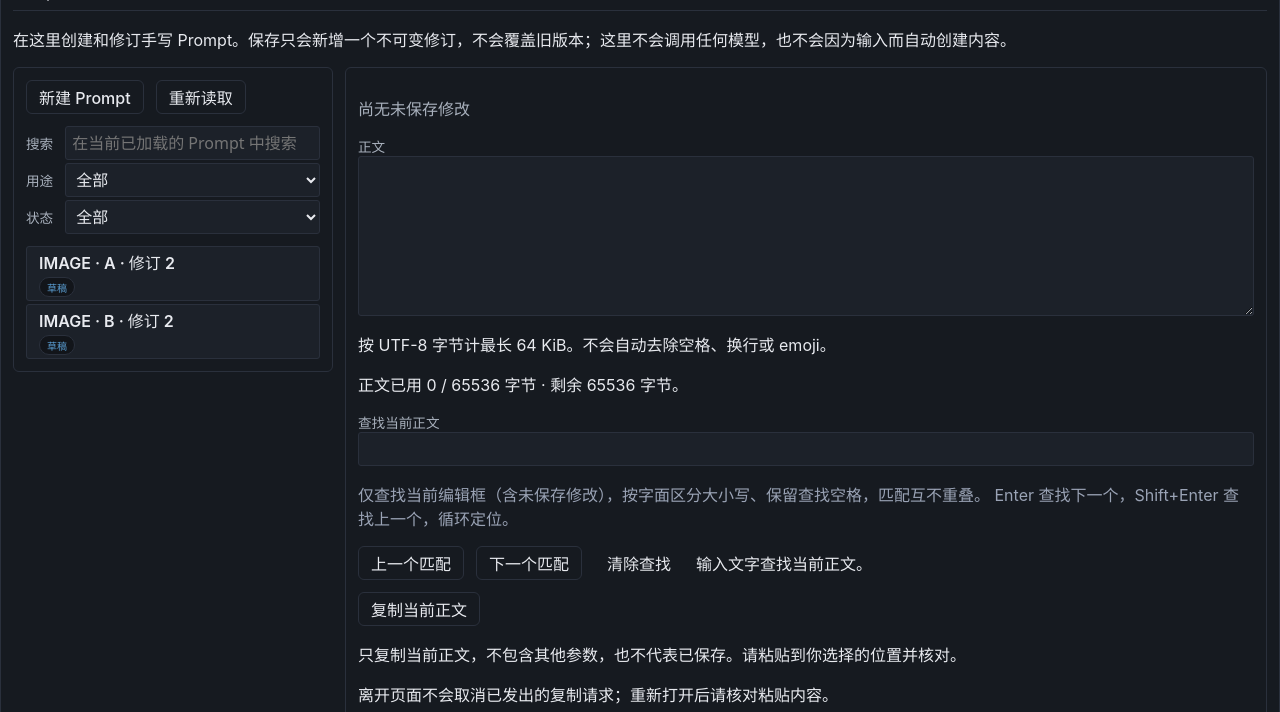
Test: mounted save receipts survive family navigation › reopens A with its actual unknown outcome and never changes B
Click the button "IMAGE · A · 修订 2 草稿": (173, 274) [26, 246, 320, 301]
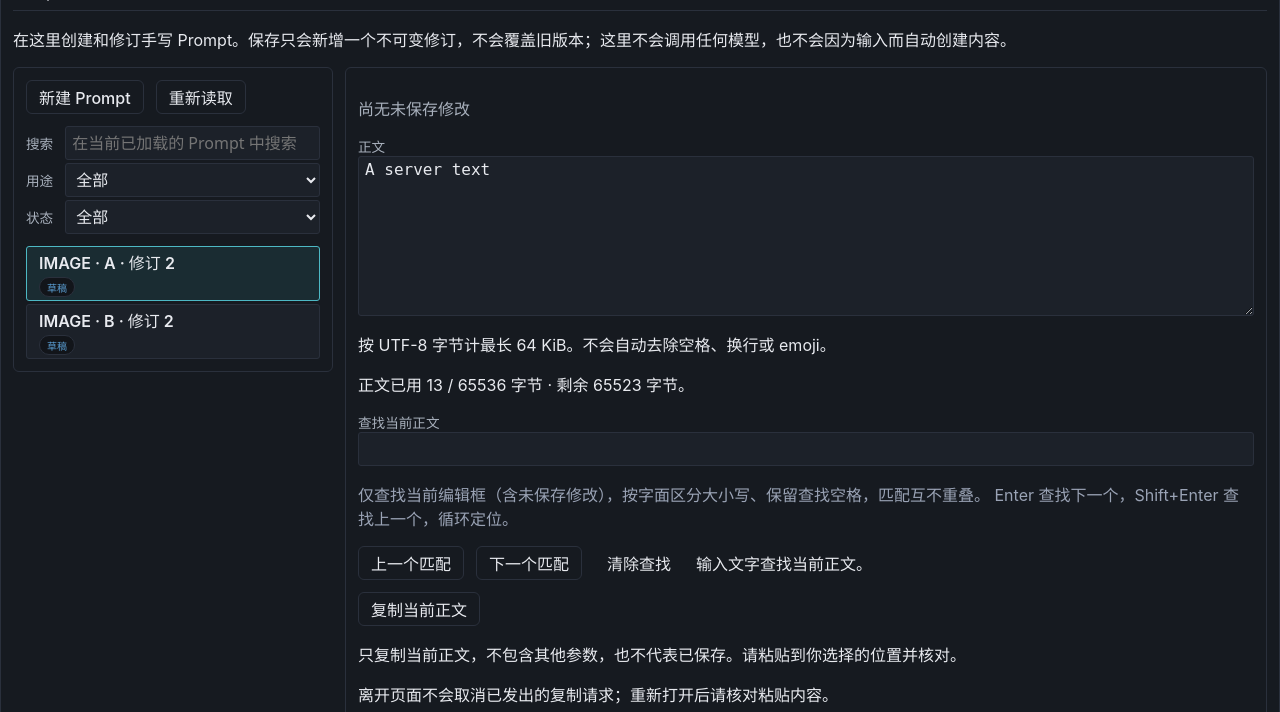
Now the text box labelled "正文" holds "A server text"
Replace the text in the text box labelled "正文" with "A frozen local text": (806, 236) [358, 156, 1254, 316]
(page scrolled)
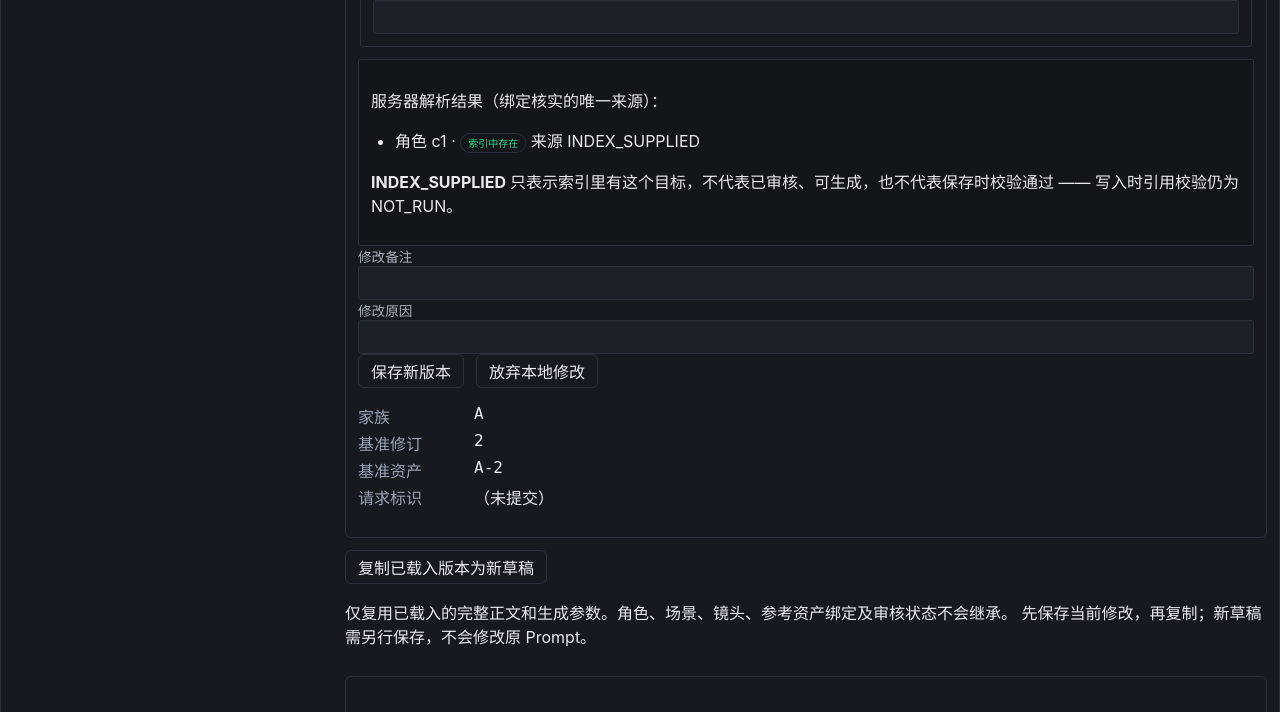
Click the button "保存新版本": (411, 370) [358, 354, 464, 388]
(page scrolled)
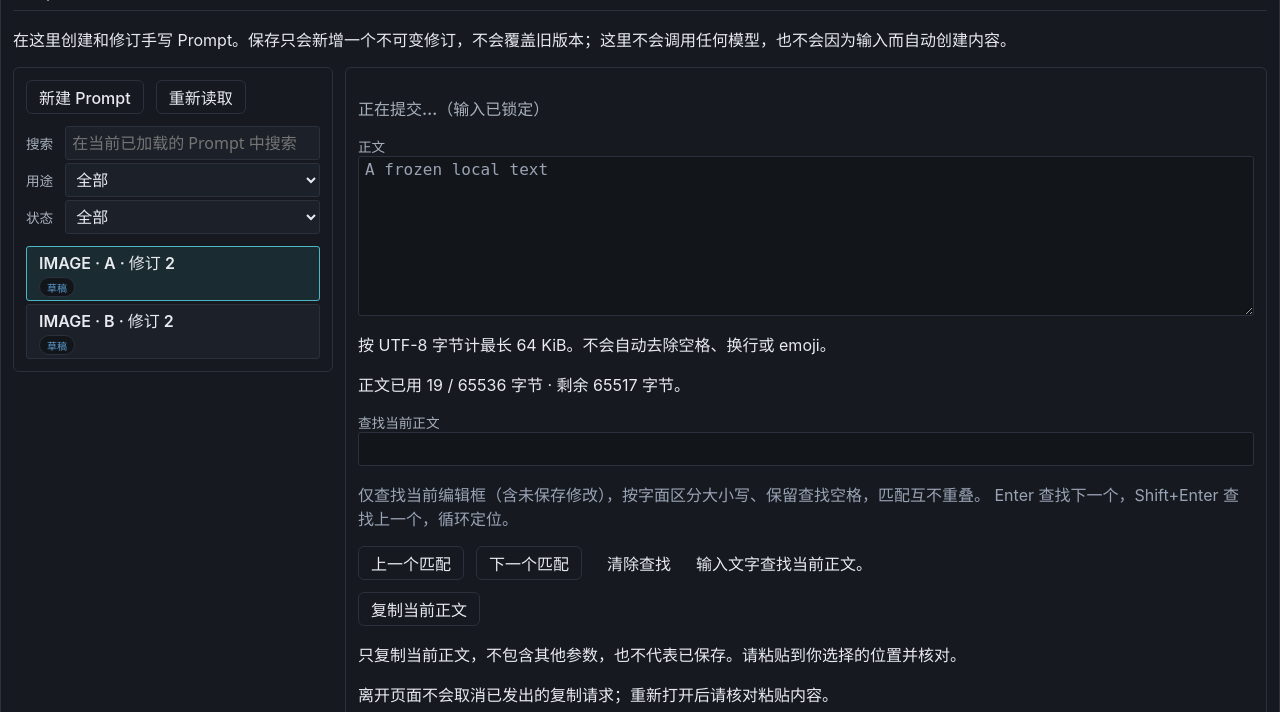
Click the button "IMAGE · B · 修订 2 草稿": (173, 332) [26, 304, 320, 359]
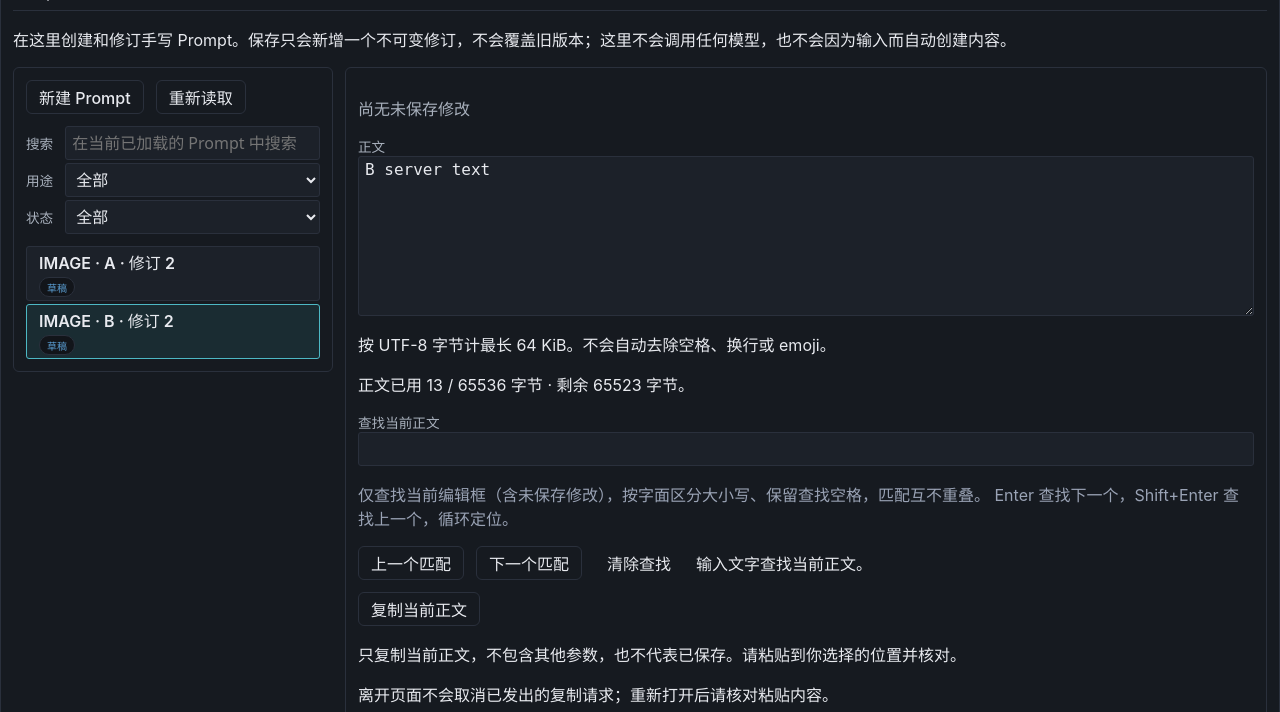
Expected: the text "已保存" is not shown
Now the text box labelled "正文" holds "B server text", box [358, 156, 1254, 316]
Click the button "IMAGE · A · 修订 2 草稿": (173, 274) [26, 246, 320, 301]
(page scrolled)
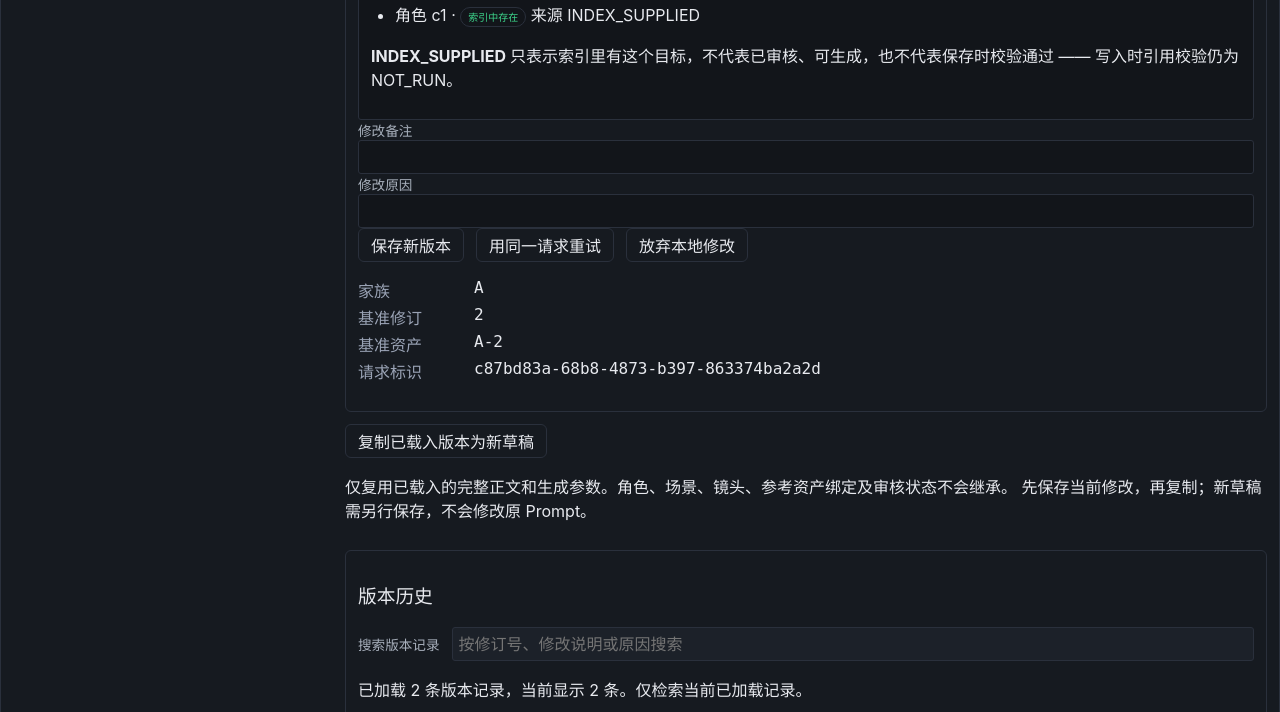
Now the button "用同一请求重试" is shown, box [476, 228, 614, 262]
